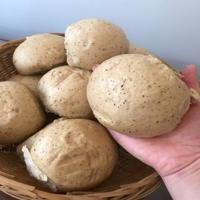biodegradable: (86, 53, 192, 138), (17, 116, 118, 191), (64, 18, 130, 71), (37, 65, 94, 119), (0, 79, 45, 145), (12, 33, 67, 75)
